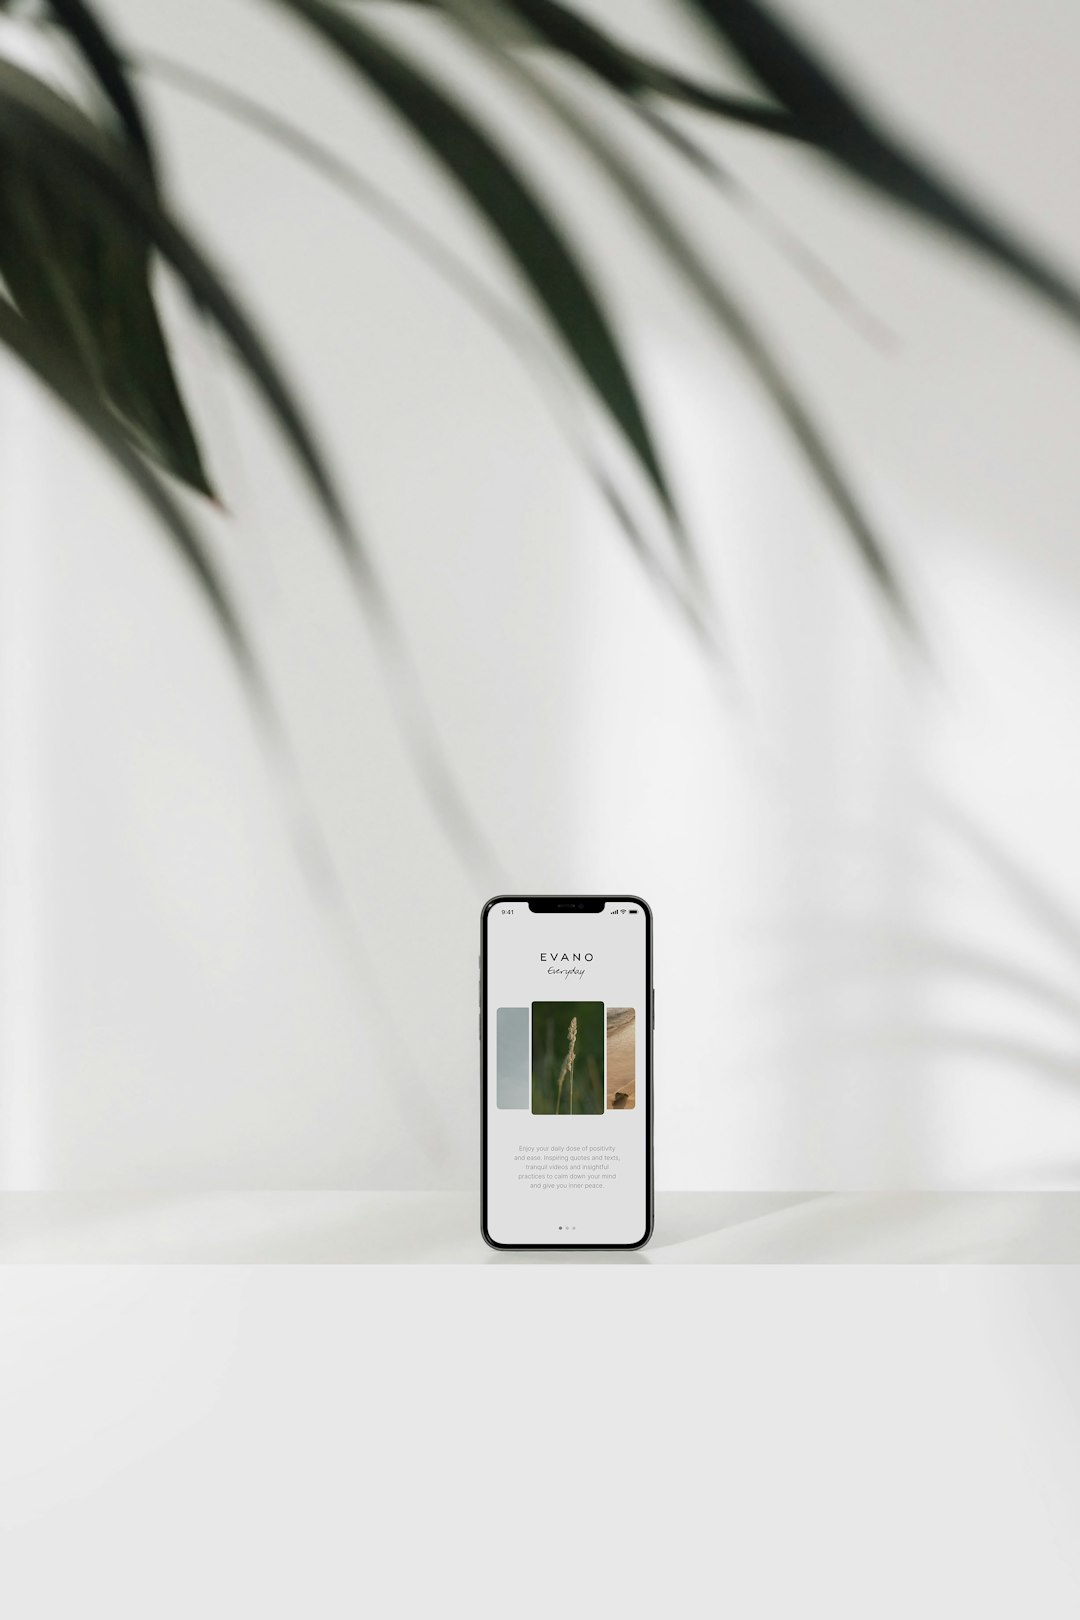phone: (479, 894, 656, 1249)
